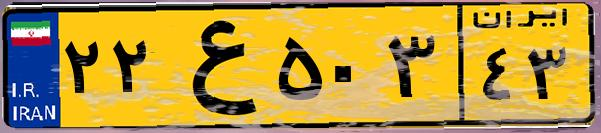0: (330, 28, 385, 110)
2: (57, 26, 110, 100), (110, 28, 158, 98)
3: (385, 28, 445, 110), (525, 38, 570, 115)
4: (475, 38, 525, 113)
5: (270, 28, 330, 110)
ع: (158, 12, 270, 120)
